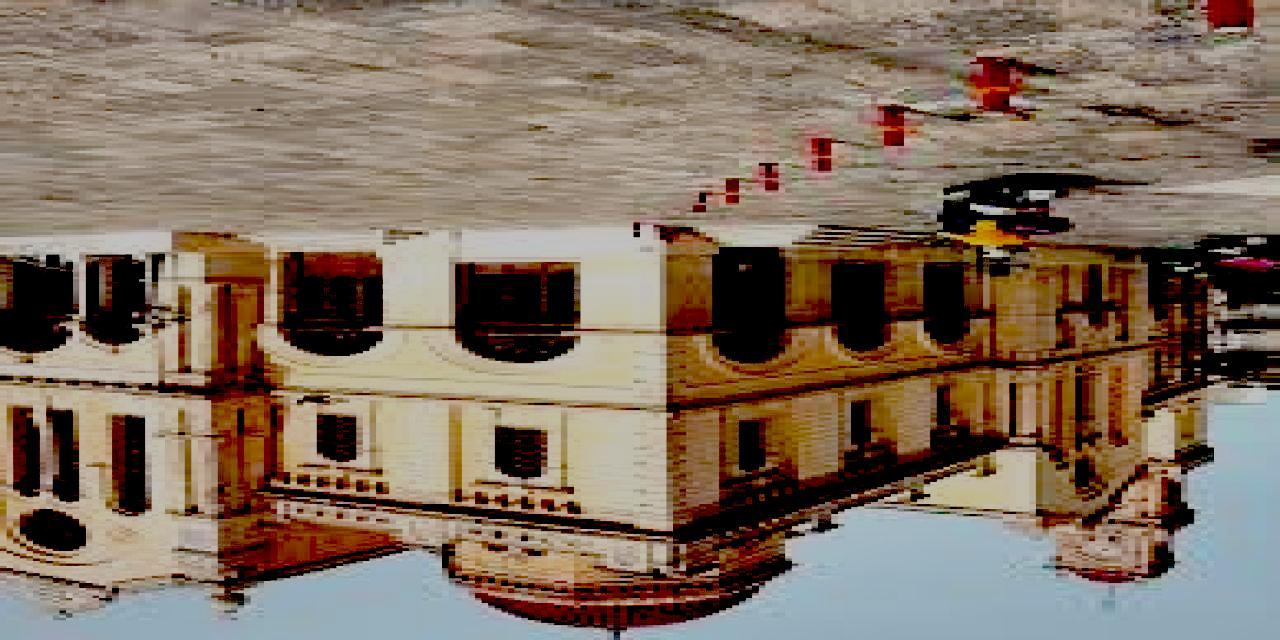Agios Minas: (2, 237, 1248, 638)
